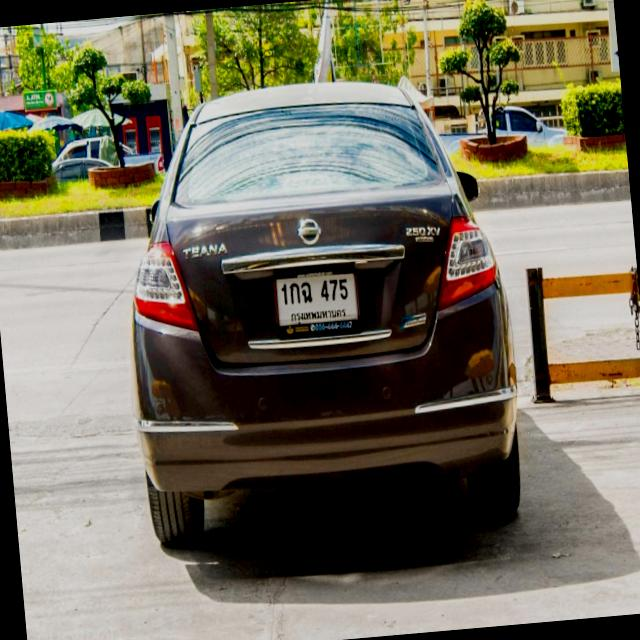license_plate: (268, 254, 373, 341)
